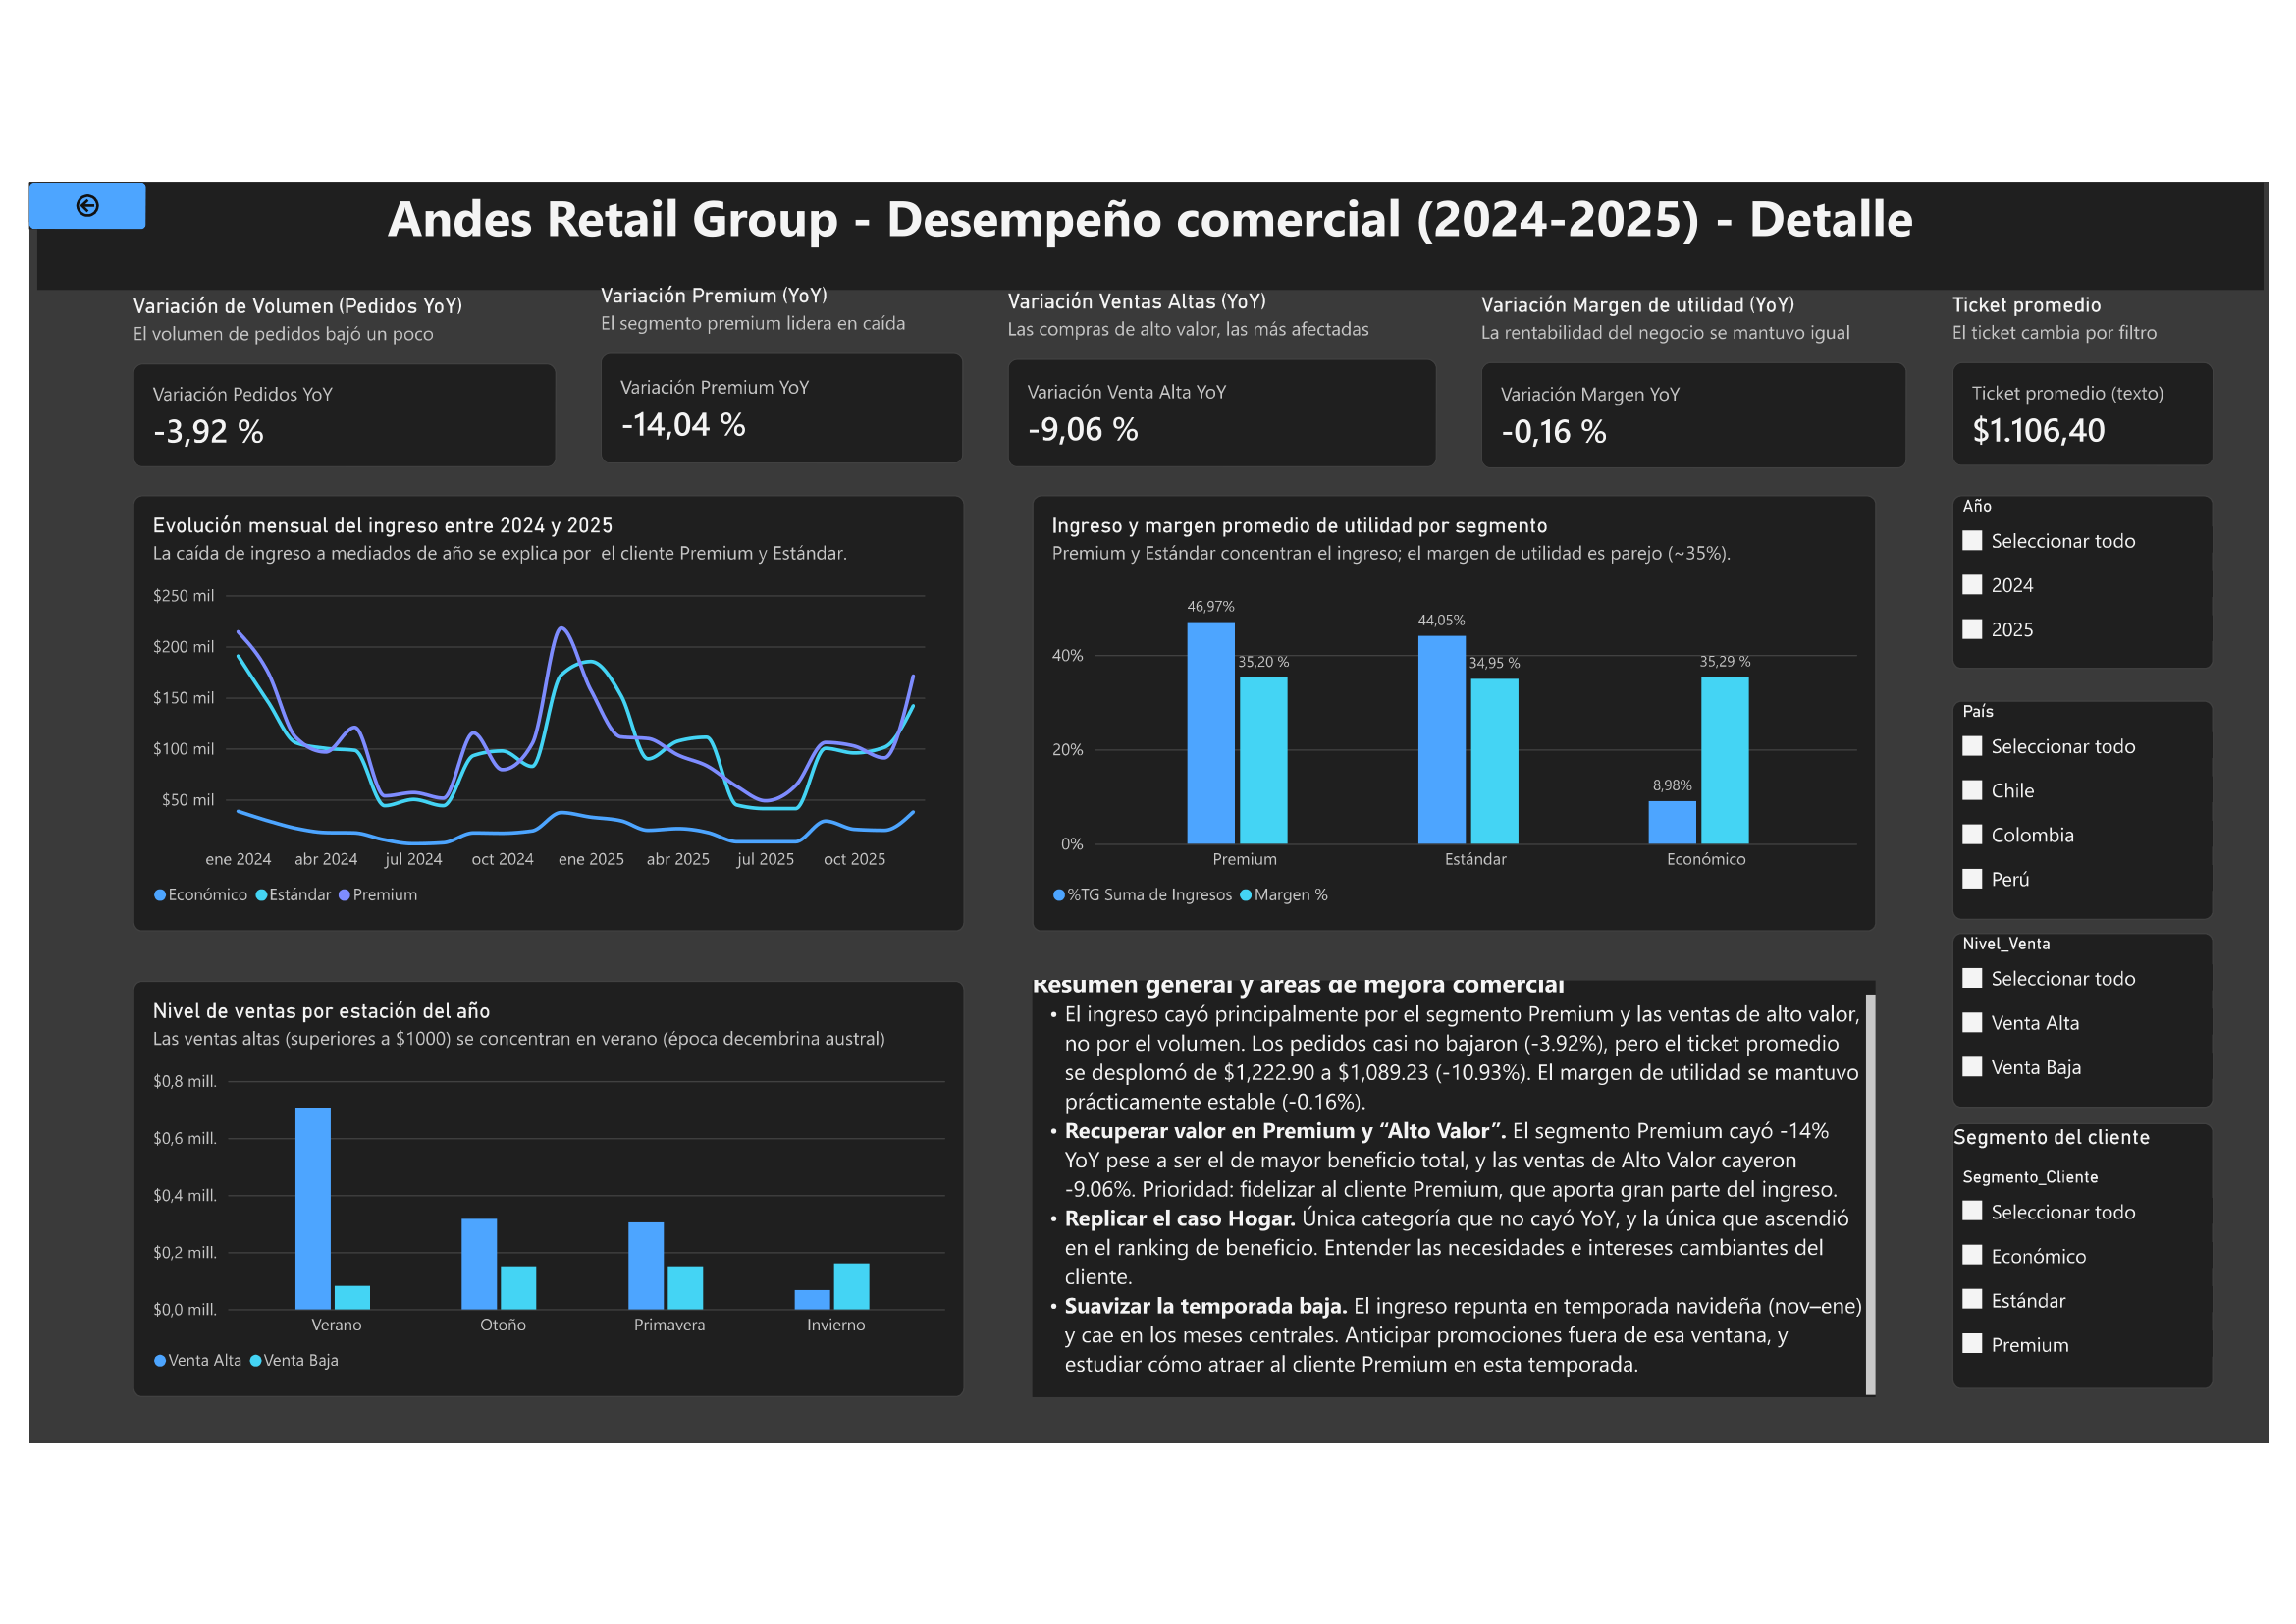

Layout of this report page (visuals, bound fields, positions):
{"tool":"powerbi","page":{"name":"Detalle","canvas":[1920,1080],"ordinal":1},"visuals":[{"type":"textbox","box":[7.2,0,1909.2,92.3],"z":0},{"type":"clusteredColumnChart","title":"Nivel de ventas por estación del año","fields":{"Category":["Andes_Retail_Group_2024_2025 - Andes_Retail_Group_2024_2025.Estación"],"Series":["Andes_Retail_Group_2024_2025 - Andes_Retail_Group_2024_2025.Nivel_Venta"],"Y":["Sum(Andes_Retail_Group_2024_2025 - Andes_Retail_Group_2024_2025. Beneficio)"]},"box":[88.7,684.1,713,356.5],"z":1000},{"type":"slicer","fields":{"Values":["Andes_Retail_Group_2024_2025 - Andes_Retail_Group_2024_2025.Fecha_Pedido.Variation.Jerarquía de fechas.Año"]},"box":[1648.9,267.8,224.4,149.6],"z":2000},{"type":"slicer","fields":{"Values":["Andes_Retail_Group_2024_2025 - Andes_Retail_Group_2024_2025.País"]},"box":[1649,443.7,224.4,188.2],"z":3000},{"type":"cardVisual","title":"Ticket promedio","fields":{"Data":["Andes_Retail_Group_2024_2025 - Andes_Retail_Group_2024_2025.Ticket promedio"]},"box":[1648.6,94.5,224.4,150.2],"z":4000},{"type":"slicer","title":"Segmento del cliente","fields":{"Values":["Andes_Retail_Group_2024_2025 - Andes_Retail_Group_2024_2025.Segmento_Cliente"]},"box":[1649,805.7,224.4,228],"z":5000},{"type":"lineChart","title":"Evolución mensual del ingreso entre 2024 y 2025","fields":{"Category":["Andes_Retail_Group_2024_2025 - Andes_Retail_Group_2024_2025.Fecha_Pedido.Variation.Jerarquía de fechas.Año","Andes_Retail_Group_2024_2025 - Andes_Retail_Group_2024_2025.Fecha_Pedido.Variation.Jerarquía de fechas.Mes"],"Series":["Andes_Retail_Group_2024_2025 - Andes_Retail_Group_2024_2025.Segmento_Cliente"],"Y":["Sum(Andes_Retail_Group_2024_2025 - Andes_Retail_Group_2024_2025.Ingresos)"]},"box":[88.7,267.8,713,374.6],"z":6000},{"type":"actionButton","box":[0,0,100,40],"z":7000},{"type":"textbox","box":[859.6,684.1,723.9,356.5],"z":8000},{"type":"clusteredColumnChart","title":"Ingreso y margen promedio de utilidad por segmento","fields":{"Category":["Andes_Retail_Group_2024_2025 - Andes_Retail_Group_2024_2025.Segmento_Cliente"],"Y":["Divide(Sum(Andes_Retail_Group_2024_2025 - Andes_Retail_Group_2024_2025.Ingresos), ScopedEval(Sum(Andes_Retail_Group_2024","Andes_Retail_Group_2024_2025 - Andes_Retail_Group_2024_2025.Margen %"]},"box":[859.6,267.8,724,374],"z":9000},{"type":"slicer","fields":{"Values":["Andes_Retail_Group_2024_2025 - Andes_Retail_Group_2024_2025.Nivel_Venta"]},"box":[1649,642.8,224,150],"z":11000},{"type":"cardVisual","title":"Variación Premium (YoY)","fields":{"Data":["Andes_Retail_Group_2024_2025 - Andes_Retail_Group_2024_2025.Variación Premium YoY"]},"box":[860,82,338,156],"z":16000},{"type":"cardVisual","title":"Variación Margen de utilidad (YoY)","fields":{"Data":["Andes_Retail_Group_2024_2025 - Andes_Retail_Group_2024_2025.Variación Margen YoY"]},"box":[88.7,86.9,342,152],"z":16500},{"type":"cardVisual","title":"Variación Ventas Altas (YoY)","fields":{"Data":["Andes_Retail_Group_2024_2025 - Andes_Retail_Group_2024_2025.Variación Venta Alta YoY"]},"box":[1236,87.2,348,154],"z":17000},{"type":"cardVisual","title":"Variación de Volumen (Pedidos YoY)","fields":{"Data":["Andes_Retail_Group_2024_2025 - Andes_Retail_Group_2024_2025.Variación Pedidos YoY"]},"box":[459.7,90.5,342,150.2],"z":17500}]}

Visuals, with their boxes on the page's 1920x1080 design canvas (x1, y1, x2, y2). These are canvas units, not pixel positions in the 2296x1624 screenshot, which may show the page scaled, cropped or inside an application window:
textbox: <box>7,0,1916,92</box>
"Nivel de ventas por estación del año" clusteredColumnChart: <box>89,684,802,1041</box>
slicer - Andes_Retail_Group_2024_2025 - Andes_Retail_Group_2024_2025.Fecha_Pedido.Variation.Jerarquía de fechas.Año: <box>1649,268,1873,417</box>
slicer - Andes_Retail_Group_2024_2025 - Andes_Retail_Group_2024_2025.País: <box>1649,444,1873,632</box>
"Ticket promedio" cardVisual: <box>1649,94,1873,245</box>
"Segmento del cliente" slicer: <box>1649,806,1873,1034</box>
"Evolución mensual del ingreso entre 2024 y 2025" lineChart: <box>89,268,802,642</box>
actionButton: <box>0,0,100,40</box>
textbox: <box>860,684,1584,1041</box>
"Ingreso y margen promedio de utilidad por segmento" clusteredColumnChart: <box>860,268,1584,642</box>
slicer - Andes_Retail_Group_2024_2025 - Andes_Retail_Group_2024_2025.Nivel_Venta: <box>1649,643,1873,793</box>
"Variación Premium (YoY)" cardVisual: <box>860,82,1198,238</box>
"Variación Margen de utilidad (YoY)" cardVisual: <box>89,87,431,239</box>
"Variación Ventas Altas (YoY)" cardVisual: <box>1236,87,1584,241</box>
"Variación de Volumen (Pedidos YoY)" cardVisual: <box>460,90,802,241</box>
